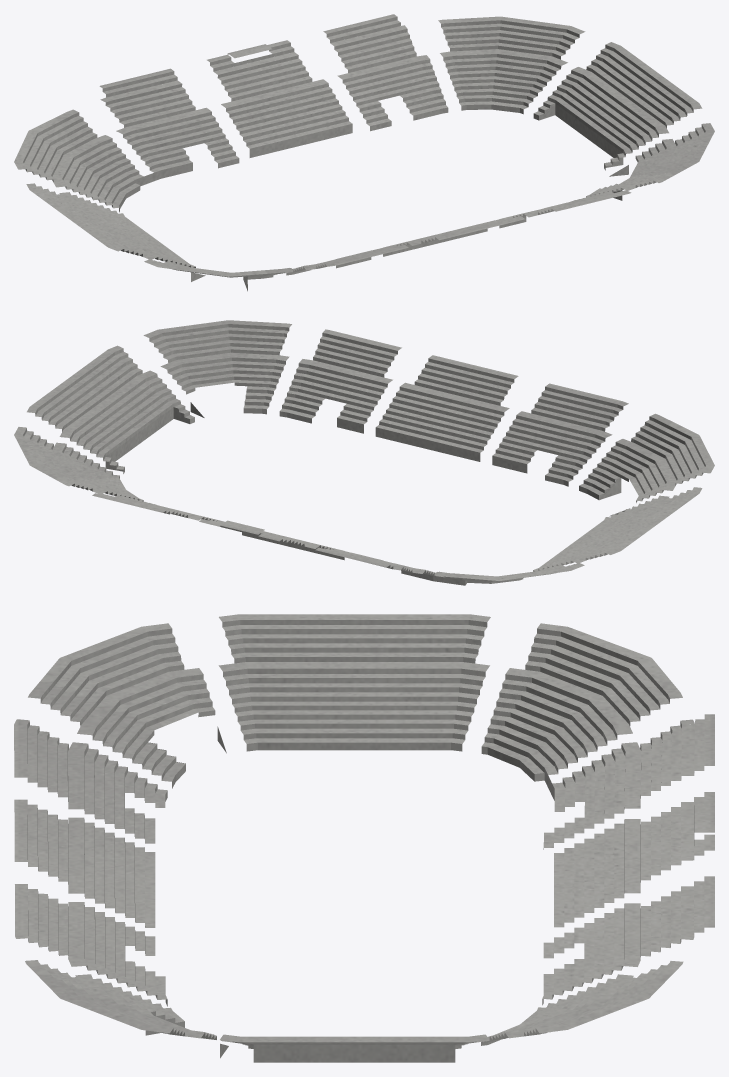
Rendered from Floor_2_Ufa.FBX.
3 renders of one model, top to bottom at view 1: azimuth 30°, elevation 25°; view 2: azimuth 150°, elevation 25°; view 3: azimuth 270°, elevation 25°, orthographic. The views are drawn at different scales.
Parts seen in each view (by area): view 1: Floor_2_Ufa; view 2: Floor_2_Ufa; view 3: Floor_2_Ufa.
Boxes of the visible parts, left/top/right/bottom form: Floor_2_Ufa: left=14, top=14, right=714, bottom=291; Floor_2_Ufa: left=14, top=320, right=714, bottom=585; Floor_2_Ufa: left=14, top=614, right=714, bottom=1062.
Bounding box in the file's own units: 89.16 × 8.26 × 61.73.
